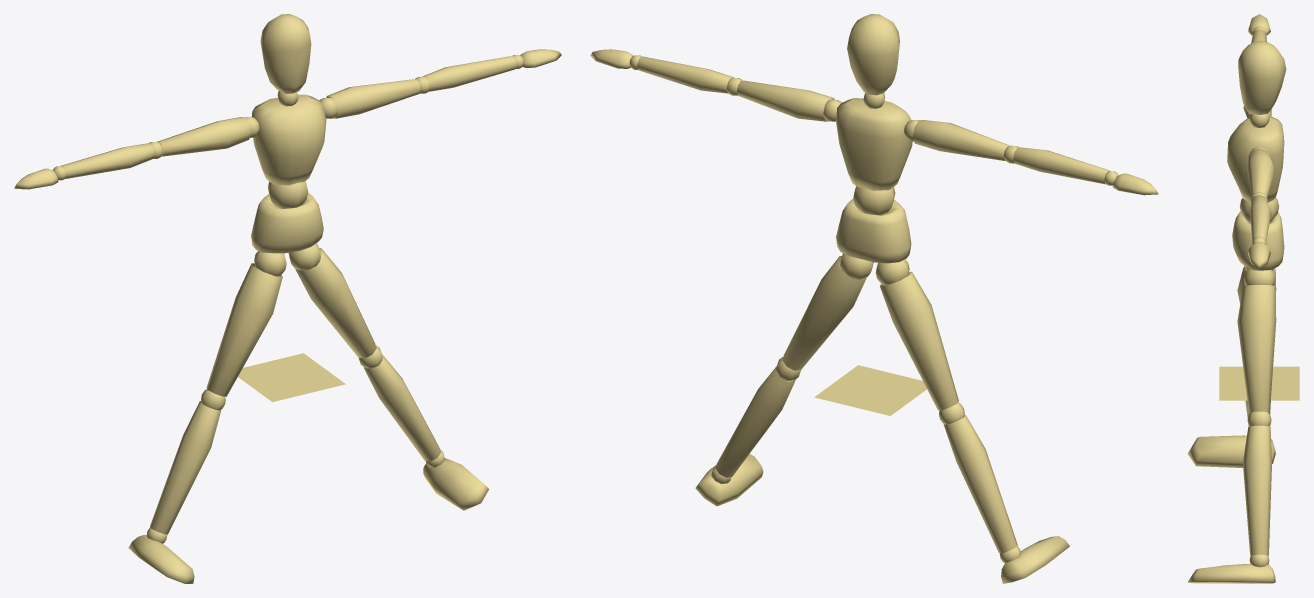
File: Mannaquin.dae
The picture shows the model from 3 angles, left to right: view 1: azimuth 30°, elevation 25°; view 2: azimuth 150°, elevation 25°; view 3: azimuth 270°, elevation 25°; orthographic projection. The views are drawn at different scales.
Parts seen in each view (by area): view 1: Cylinder_003, Cylinder_002, Cylinder_001, Cylinder_006, Cylinder, Sphere_008, Plane, Cylinder_007, Cylinder_004, Cylinder_009, Sphere_014, Sphere (+3 smaller); view 2: Cylinder_003, Cylinder_002, Cylinder_001, Cylinder_006, Cylinder, Sphere_008, Plane, Cylinder_007, Cylinder_004, Cylinder_009, Cylinder_005, Cylinder_008 (+4 smaller); view 3: Cylinder_006, Cylinder_007, Cylinder_003, Sphere_008, Cylinder_002, Plane, Sphere, Sphere_014, Cylinder_009, Cylinder_008, Sphere_016, Sphere_009 (+2 smaller).
Part boxes in pixels (x1=…): Cylinder_003: x1=245, y1=91, x2=337, y2=185; Cylinder_002: x1=251, y1=181, x2=323, y2=276; Cylinder_001: x1=201, y1=263, x2=282, y2=410; Cylinder_006: x1=295, y1=248, x2=382, y2=368; Cylinder: x1=150, y1=401, x2=221, y2=534; Sphere_008: x1=260, y1=14, x2=311, y2=93; Plane: x1=238, y1=353, x2=345, y2=402; Cylinder_007: x1=364, y1=354, x2=440, y2=461; Cylinder_004: x1=149, y1=117, x2=250, y2=158; Cylinder_009: x1=326, y1=76, x2=430, y2=118; Sphere_014: x1=423, y1=449, x2=488, y2=510; Sphere: x1=128, y1=527, x2=194, y2=583; Cylinder_003: x1=823, y1=93, x2=918, y2=190; Cylinder_002: x1=836, y1=186, x2=911, y2=285; Cylinder_001: x1=880, y1=271, x2=964, y2=424; Cylinder_006: x1=776, y1=256, x2=866, y2=381; Cylinder: x1=943, y1=415, x2=1017, y2=553; Sphere_008: x1=847, y1=14, x2=899, y2=95; Plane: x1=814, y1=365, x2=926, y2=415; Cylinder_007: x1=715, y1=366, x2=795, y2=477; Cylinder_004: x1=913, y1=120, x2=1018, y2=163; Cylinder_009: x1=727, y1=78, x2=834, y2=121; Cylinder_005: x1=1013, y1=147, x2=1110, y2=184; Cylinder_008: x1=637, y1=56, x2=734, y2=93; Cylinder_006: x1=1237, y1=285, x2=1276, y2=426; Cylinder_007: x1=1243, y1=425, x2=1271, y2=555; Cylinder_003: x1=1227, y1=114, x2=1284, y2=202; Sphere_008: x1=1238, y1=41, x2=1286, y2=114; Cylinder_002: x1=1232, y1=198, x2=1284, y2=285; Plane: x1=1219, y1=366, x2=1299, y2=400; Sphere: x1=1187, y1=435, x2=1275, y2=467; Sphere_014: x1=1188, y1=554, x2=1275, y2=583; Cylinder_009: x1=1247, y1=148, x2=1275, y2=201; Cylinder_008: x1=1250, y1=194, x2=1271, y2=241; Sphere_016: x1=1248, y1=236, x2=1270, y2=268; Sphere_009: x1=1248, y1=14, x2=1270, y2=35.
Bounding box in the file's own units: 14.87 × 2.8 × 13.3.
